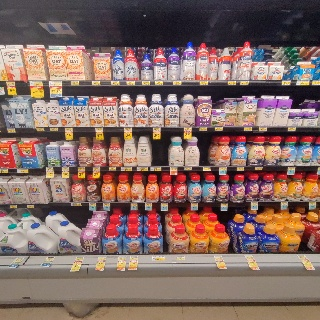All PRICE TAGS: (49, 81, 62, 86), (30, 81, 43, 86), (297, 255, 308, 260), (153, 256, 164, 261), (75, 256, 84, 262), (245, 255, 255, 260), (312, 80, 320, 86), (297, 81, 309, 85), (46, 256, 55, 261), (227, 80, 236, 85), (17, 169, 28, 173), (137, 167, 148, 171), (121, 167, 132, 171), (71, 81, 79, 86), (6, 81, 14, 86), (130, 256, 138, 261), (98, 256, 106, 261), (71, 202, 81, 206), (183, 127, 191, 132), (241, 80, 249, 85), (176, 256, 185, 260), (282, 81, 291, 85), (288, 166, 295, 171), (215, 255, 222, 260), (119, 256, 126, 261), (103, 203, 110, 208), (142, 81, 150, 85), (111, 81, 119, 85), (92, 81, 100, 85), (155, 81, 163, 85), (7, 128, 15, 132), (36, 128, 44, 132), (0, 169, 8, 173), (14, 258, 22, 262), (220, 203, 228, 207), (190, 203, 198, 207), (92, 167, 100, 171), (46, 167, 54, 171), (244, 127, 252, 131), (215, 127, 223, 131), (153, 127, 161, 131), (124, 127, 132, 131), (65, 127, 73, 131), (173, 81, 181, 85), (151, 167, 161, 170), (127, 81, 134, 85), (27, 204, 34, 208), (288, 127, 295, 131), (251, 202, 258, 206), (145, 203, 152, 207), (130, 203, 137, 207), (90, 203, 97, 207), (256, 166, 263, 170), (78, 167, 85, 171), (200, 127, 207, 131), (96, 127, 103, 131), (200, 81, 207, 85), (10, 205, 16, 209), (310, 202, 316, 206), (161, 204, 167, 208), (219, 167, 227, 170), (203, 167, 211, 170), (184, 167, 192, 170), (170, 167, 178, 170), (62, 167, 70, 170), (259, 128, 267, 131), (50, 128, 58, 131), (281, 202, 288, 205), (237, 167, 244, 170), (109, 167, 116, 170)
